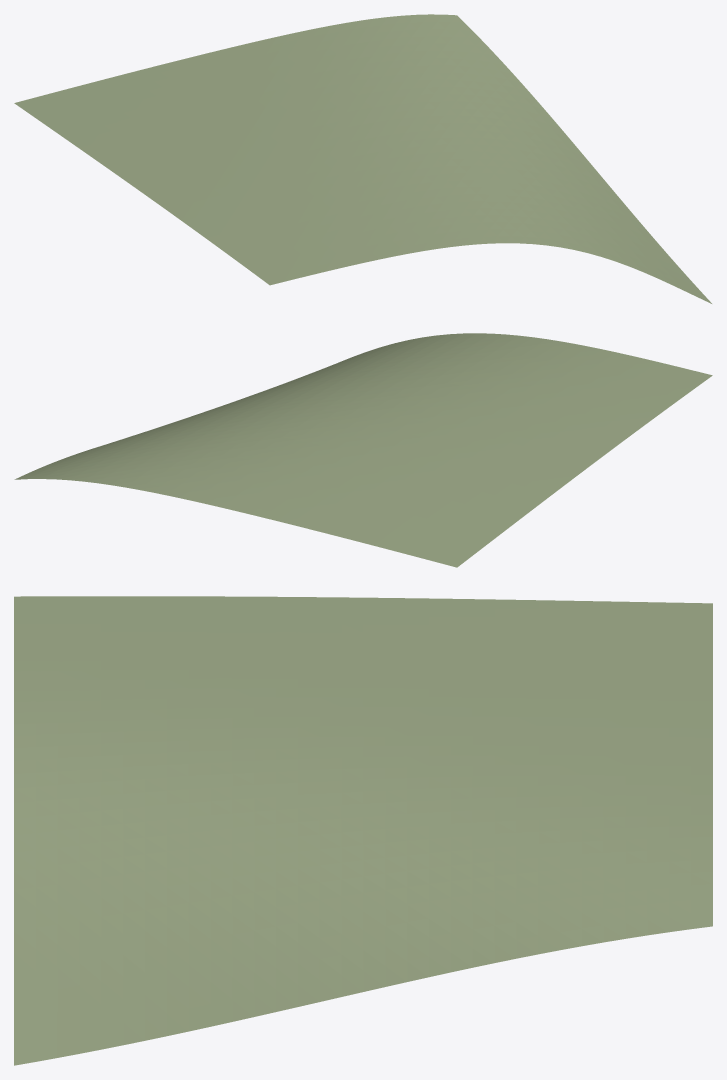
Rendered from expanse-10-17.glb.
The picture shows the model from 3 angles, top to bottom: view 1: azimuth 30°, elevation 25°; view 2: azimuth 150°, elevation 25°; view 3: azimuth 270°, elevation 25°; orthographic projection. The views are drawn at different scales.
Parts seen in each view (by area): view 1: expanse-10-17; view 2: expanse-10-17; view 3: expanse-10-17.
Boxes of the visible parts, left/top/right/bottom form: expanse-10-17: left=14, top=14, right=711, bottom=303; expanse-10-17: left=14, top=333, right=712, bottom=567; expanse-10-17: left=14, top=596, right=712, bottom=1065.
Bounding box in the file's own units: 256 × 70.71 × 256.
